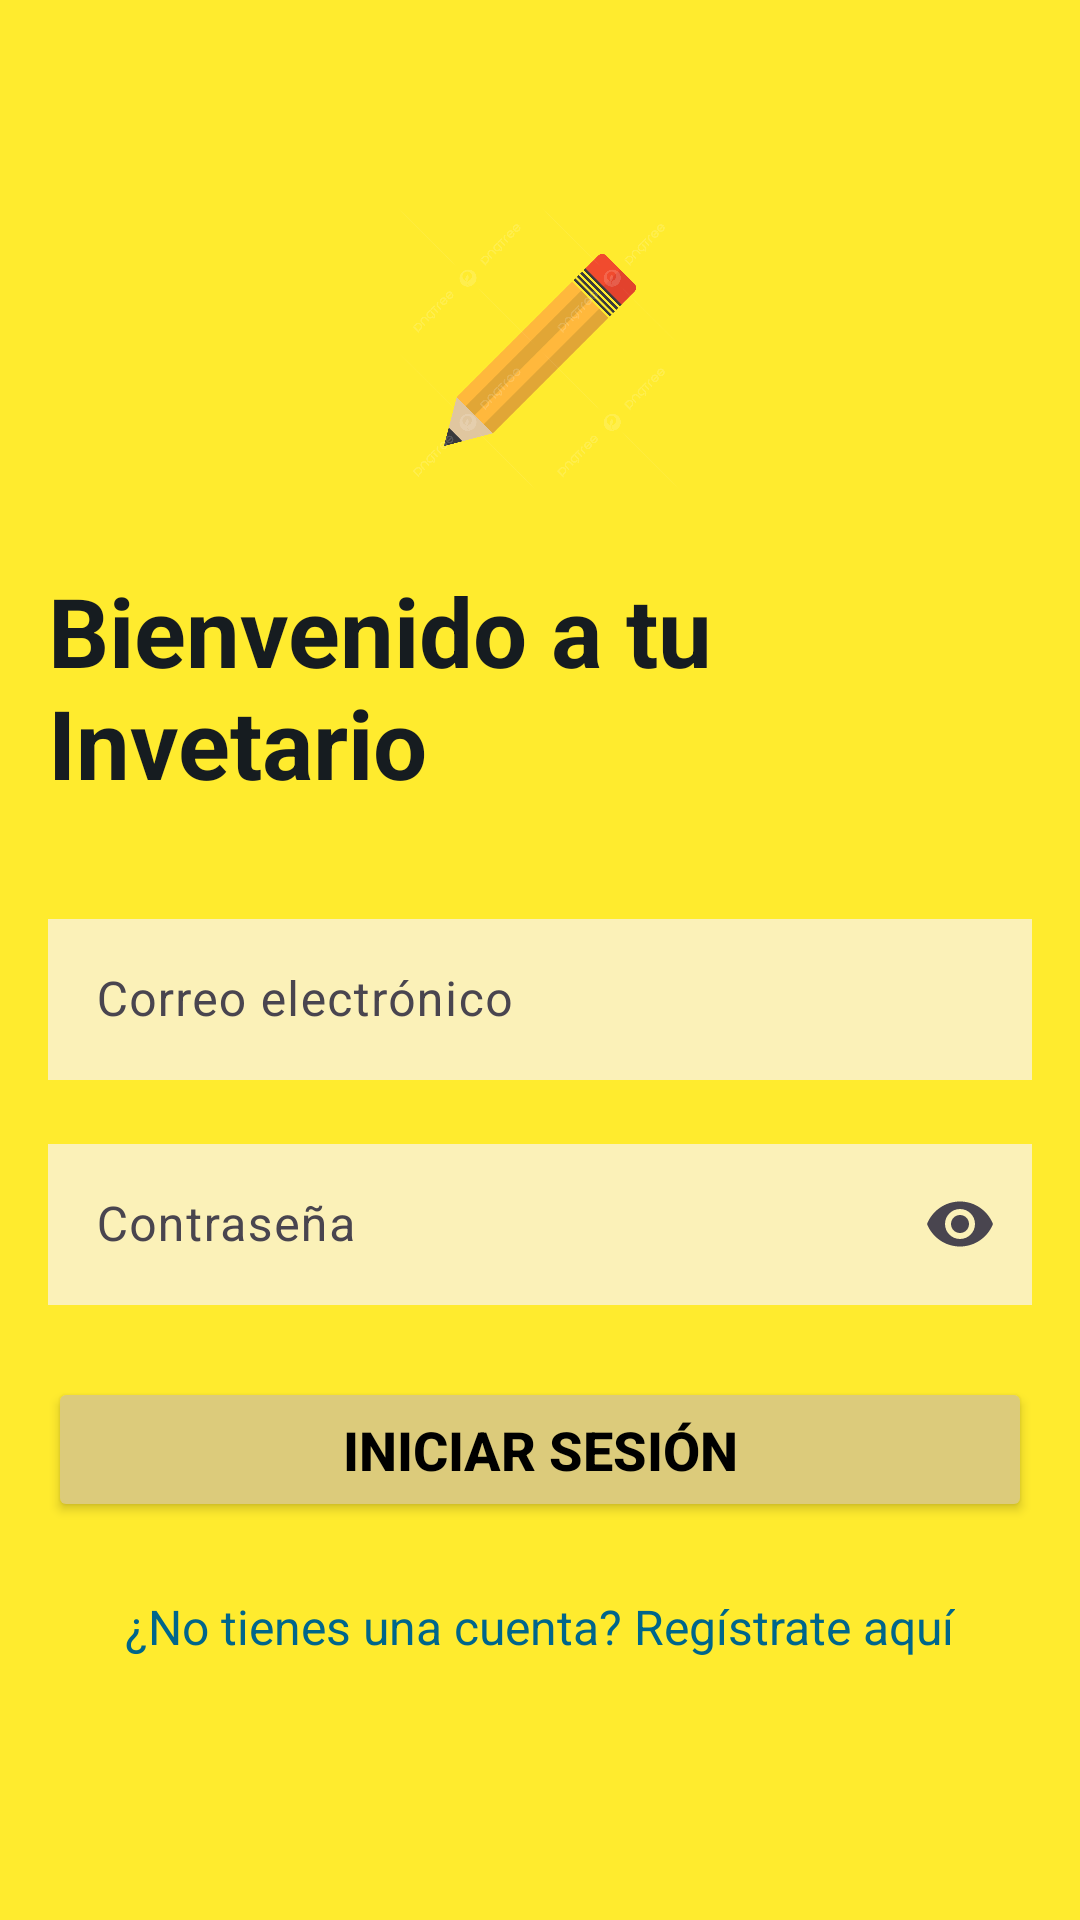

Where icons sit on this 1080w x 1920h app screen, as [left=x1, top=y1, right=x2, bottom=y2]:
Ícono de lápiz: [left=413, top=224, right=665, bottom=477]
